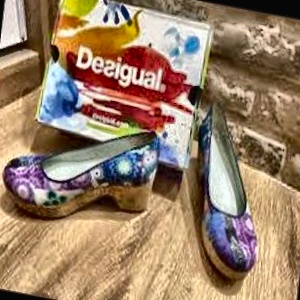desigual: (130, 18, 209, 88)
